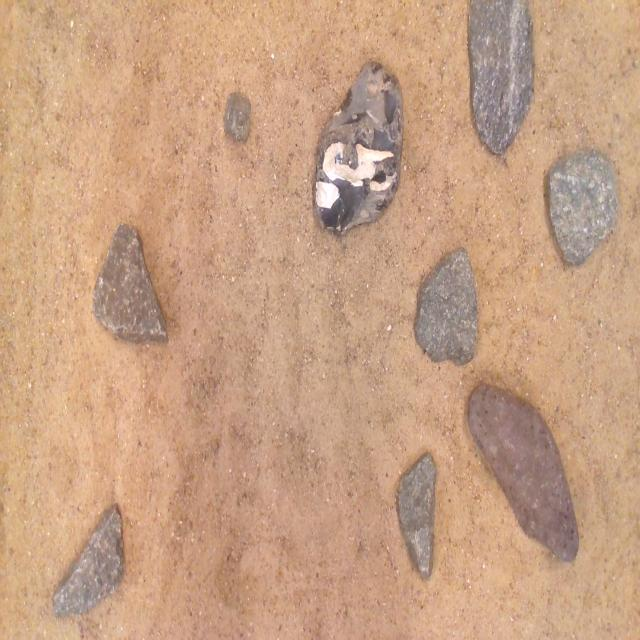rock: (468, 385, 578, 561), (316, 62, 403, 232), (468, 0, 533, 153), (93, 223, 167, 343), (52, 505, 124, 616), (549, 149, 618, 264), (414, 248, 477, 364), (398, 453, 436, 578), (224, 92, 250, 140)
